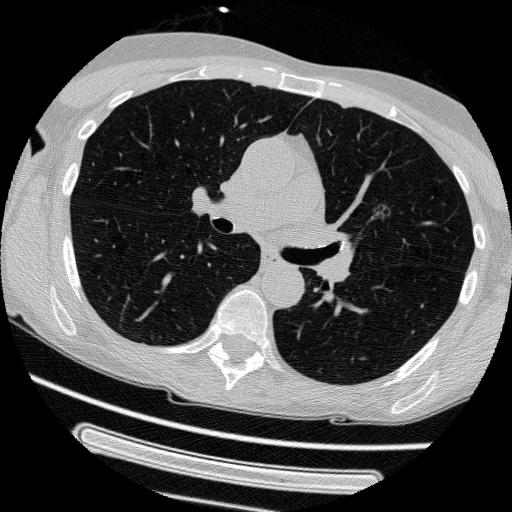nodule: (368, 200, 393, 225)
